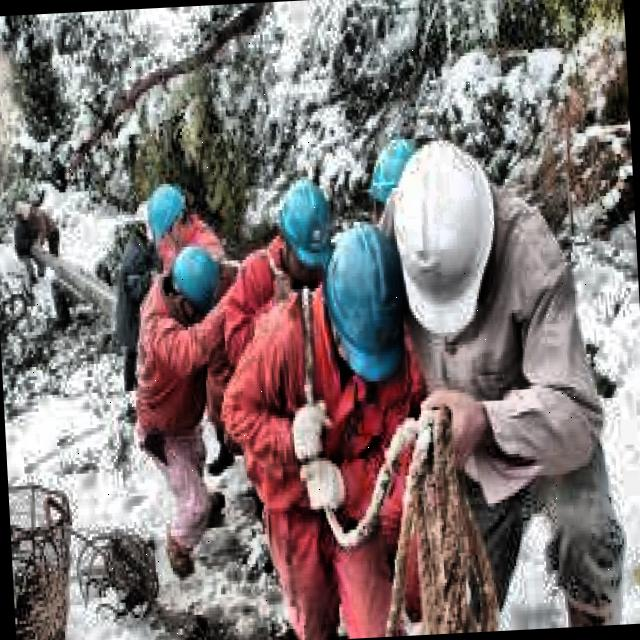helmet: (382, 141, 506, 339), (324, 226, 411, 387), (272, 172, 338, 287), (138, 176, 198, 262), (168, 238, 226, 318)
